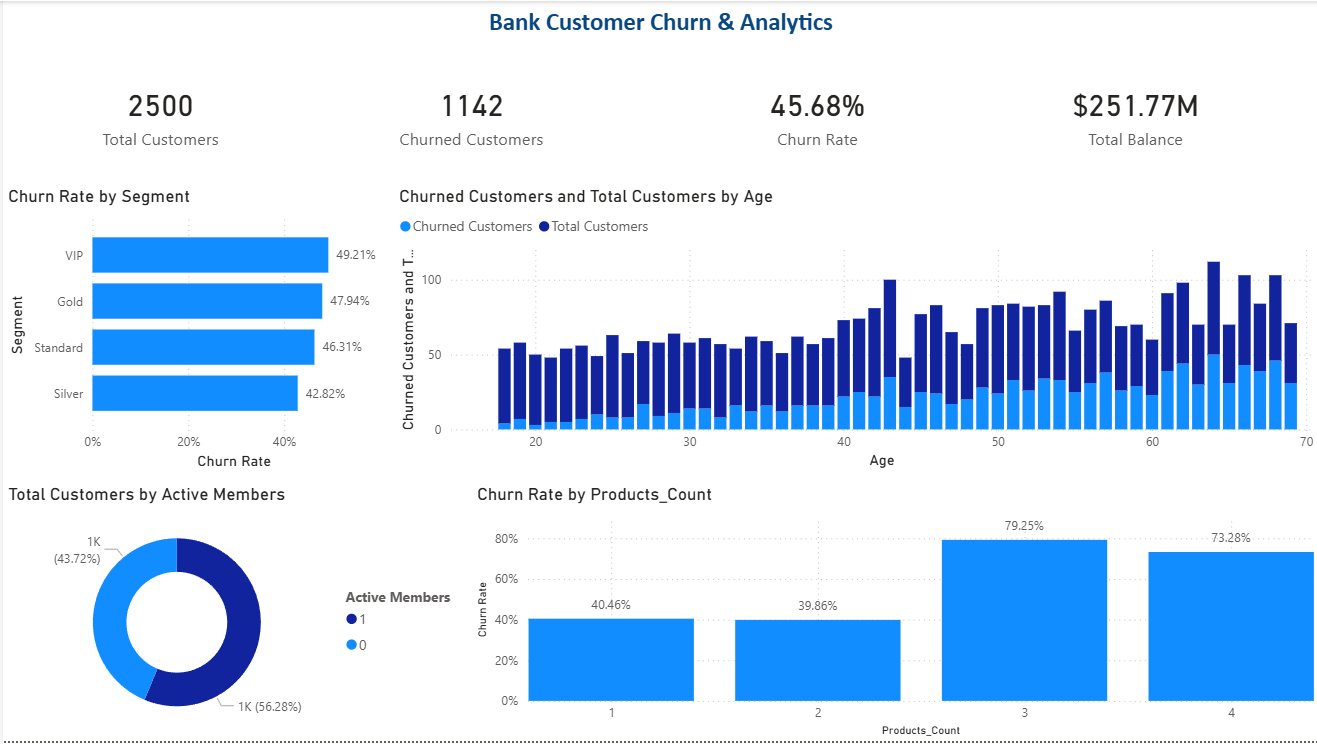

The dashboard page shown, as its layout file describes it:
{"tool":"powerbi","page":{"name":"Page 1","canvas":[1280,720],"ordinal":0},"visuals":[{"type":"card","fields":{"Values":["bank_analytics_data.Total Customers"]},"box":[0,39.9,306.4,140.1],"z":0},{"type":"textbox","box":[0,0,1280,39.9],"z":1000},{"type":"card","fields":{"Values":["bank_analytics_data.Churned Customers"]},"box":[306.4,39.9,298.6,140.1],"z":2000},{"type":"card","fields":{"Values":["bank_analytics_data.Churn Rate"]},"box":[640,39.9,304.4,140.1],"z":3000},{"type":"card","fields":{"Values":["bank_analytics_data.Total Balance"]},"box":[923,39.9,357,140.1],"z":4000},{"type":"clusteredBarChart","fields":{"Category":["bank_analytics_data.Segment"],"Y":["bank_analytics_data.Churn Rate"]},"box":[0,179.9,380.3,280.1],"z":5000},{"type":"columnChart","fields":{"Category":["bank_analytics_data.Age"],"Y":["bank_analytics_data.Churned Customers","bank_analytics_data.Total Customers"]},"box":[380.3,179.9,899.7,280.1],"z":6000},{"type":"donutChart","fields":{"Category":["bank_analytics_data.Is_Active_Member"],"Y":["bank_analytics_data.Total Customers"]},"box":[0,469.8,456.2,250],"z":7000},{"type":"clusteredColumnChart","fields":{"Category":["bank_analytics_data.Products_Count"],"Y":["bank_analytics_data.Churn Rate"]},"box":[456.2,469.8,823.8,250],"z":7001}]}

Visuals, with their boxes in screenshot pixels (x1, y1, x2, y2), scaled from the page's 1280x720 canvas onto the 1317x744 screenshot:
card - bank_analytics_data.Total Customers: [x1=0, y1=41, x2=315, y2=186]
textbox: [x1=0, y1=0, x2=1316, y2=41]
card - bank_analytics_data.Churned Customers: [x1=315, y1=41, x2=622, y2=186]
card - bank_analytics_data.Churn Rate: [x1=658, y1=41, x2=972, y2=186]
card - bank_analytics_data.Total Balance: [x1=950, y1=41, x2=1316, y2=186]
clusteredBarChart - bank_analytics_data.Segment x bank_analytics_data.Churn Rate: [x1=0, y1=186, x2=391, y2=475]
columnChart - bank_analytics_data.Age x bank_analytics_data.Churned Customers: [x1=391, y1=186, x2=1316, y2=475]
donutChart - bank_analytics_data.Is_Active_Member x bank_analytics_data.Total Customers: [x1=0, y1=485, x2=469, y2=743]
clusteredColumnChart - bank_analytics_data.Products_Count x bank_analytics_data.Churn Rate: [x1=469, y1=485, x2=1316, y2=743]
